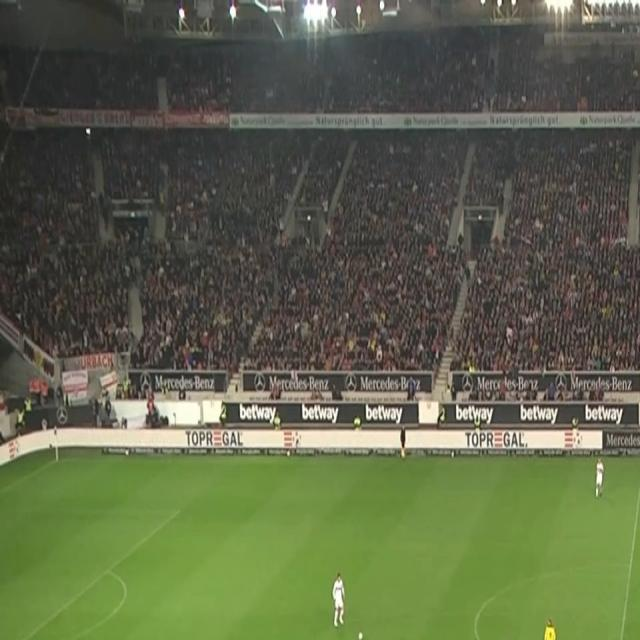ball: (358, 629, 363, 640)
